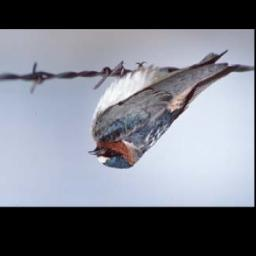Swallow: (90, 47, 241, 170)
